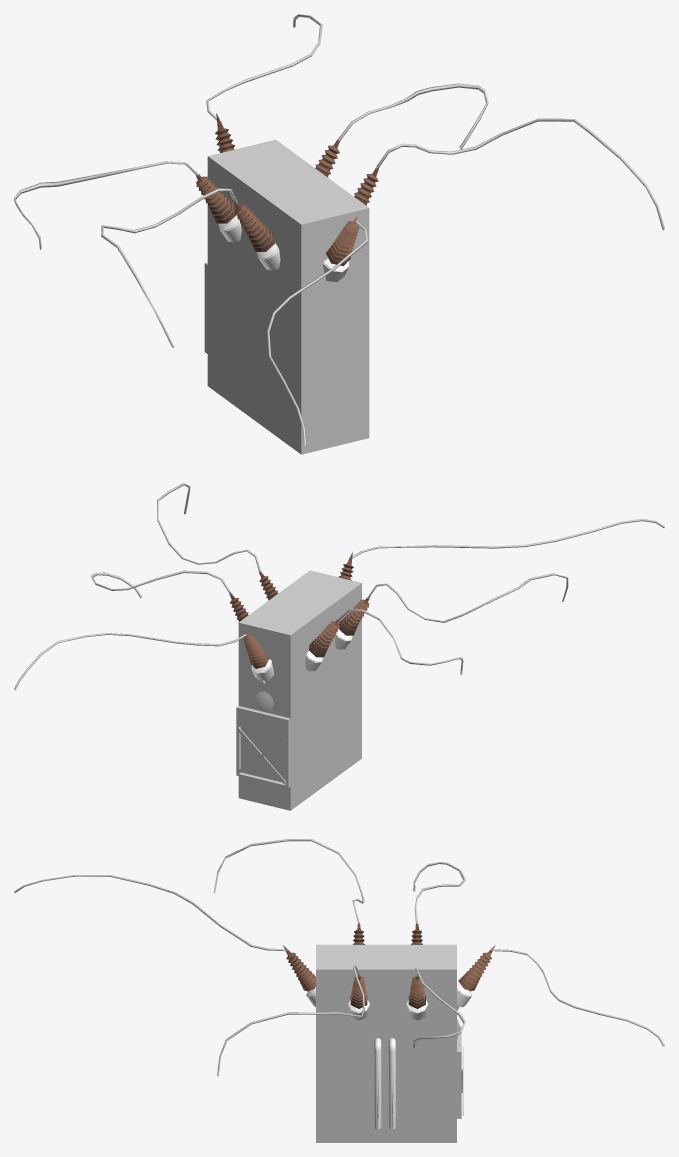
The model's file is substation_circuitbreaker.dae.
The picture shows the model from 3 angles, top to bottom: view 1: azimuth 30°, elevation 25°; view 2: azimuth 150°, elevation 25°; view 3: azimuth 270°, elevation 25°; orthographic projection. The views are drawn at different scales.
Visible parts, largest first — view 1: Colmesh-1, substation_circuitbreaker_a500, substation_circuitbreaker_a200; view 2: Colmesh-1, substation_circuitbreaker_a500, substation_circuitbreaker_a200; view 3: Colmesh-1, substation_circuitbreaker_a500, substation_circuitbreaker_a200.
Part boxes in pixels (bbox=[...]): Colmesh-1: bbox=[207, 139, 369, 454]; substation_circuitbreaker_a500: bbox=[14, 14, 664, 445]; substation_circuitbreaker_a200: bbox=[196, 113, 378, 421]; Colmesh-1: bbox=[238, 570, 361, 810]; substation_circuitbreaker_a500: bbox=[14, 483, 664, 787]; substation_circuitbreaker_a200: bbox=[229, 552, 370, 780]; Colmesh-1: bbox=[316, 944, 456, 1142]; substation_circuitbreaker_a500: bbox=[14, 839, 664, 1129]; substation_circuitbreaker_a200: bbox=[283, 921, 495, 1129].
Size of the model in its own units: 11.88 by 17.5 by 6.07.
